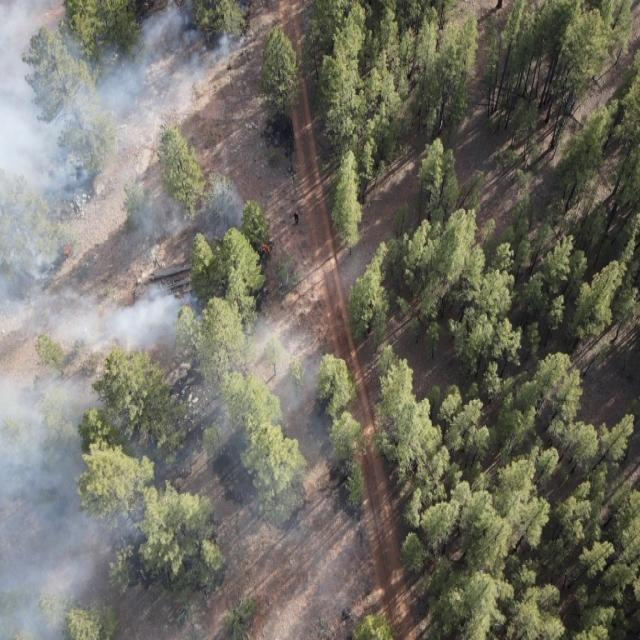fire: (258, 237, 275, 259), (58, 242, 77, 260), (176, 4, 182, 14)
smoke: (2, 360, 139, 640), (0, 0, 250, 148), (0, 147, 146, 359), (146, 279, 332, 439), (128, 174, 252, 241)
